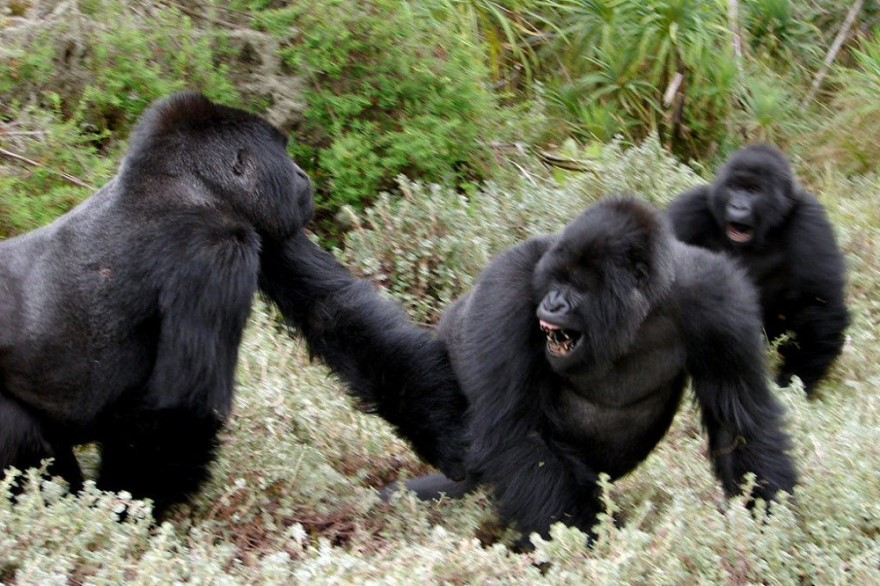Gorilla: (8, 106, 335, 480), (465, 221, 781, 507), (687, 142, 843, 298)
